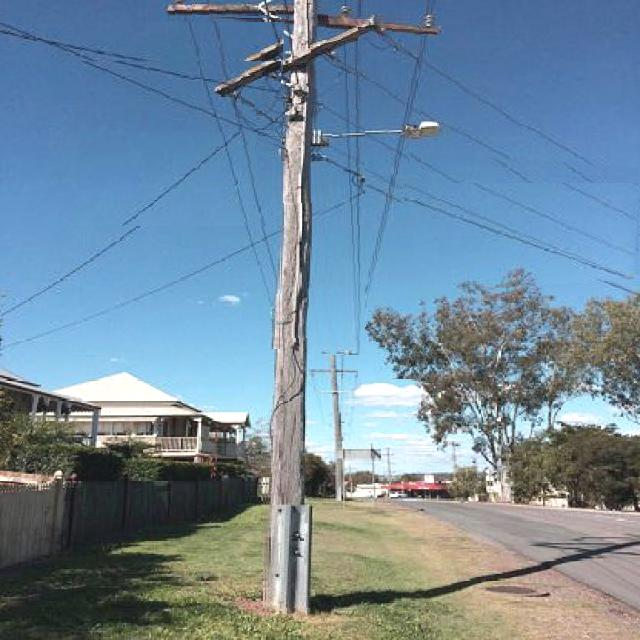crossarm: (212, 20, 378, 98), (166, 0, 295, 27), (317, 14, 437, 32)
pole: (265, 0, 319, 620)
wire: (0, 132, 248, 315), (1, 226, 281, 349), (421, 34, 633, 195), (409, 152, 629, 274), (358, 28, 440, 352), (403, 183, 635, 283), (446, 126, 640, 231), (0, 22, 282, 84), (81, 61, 281, 145), (317, 41, 365, 355), (256, 98, 285, 130)
